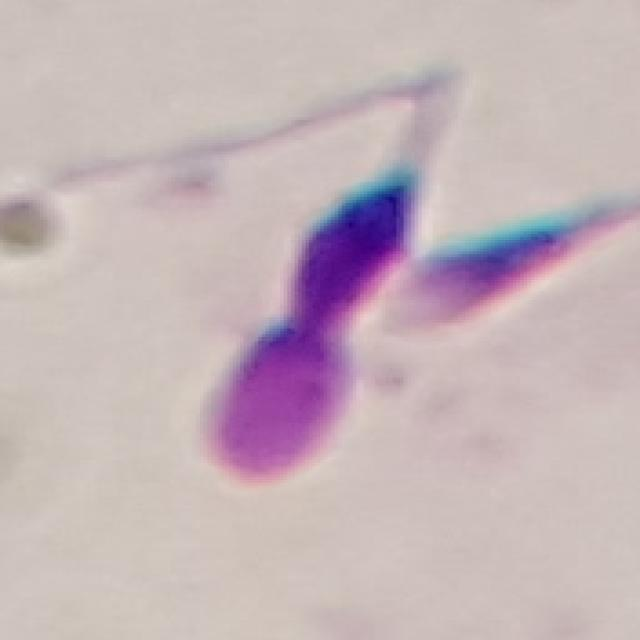abnormal sperm: (209, 44, 471, 497)
